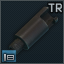Mosin Tiger Rock thread adapter: (0, 0, 64, 64)
